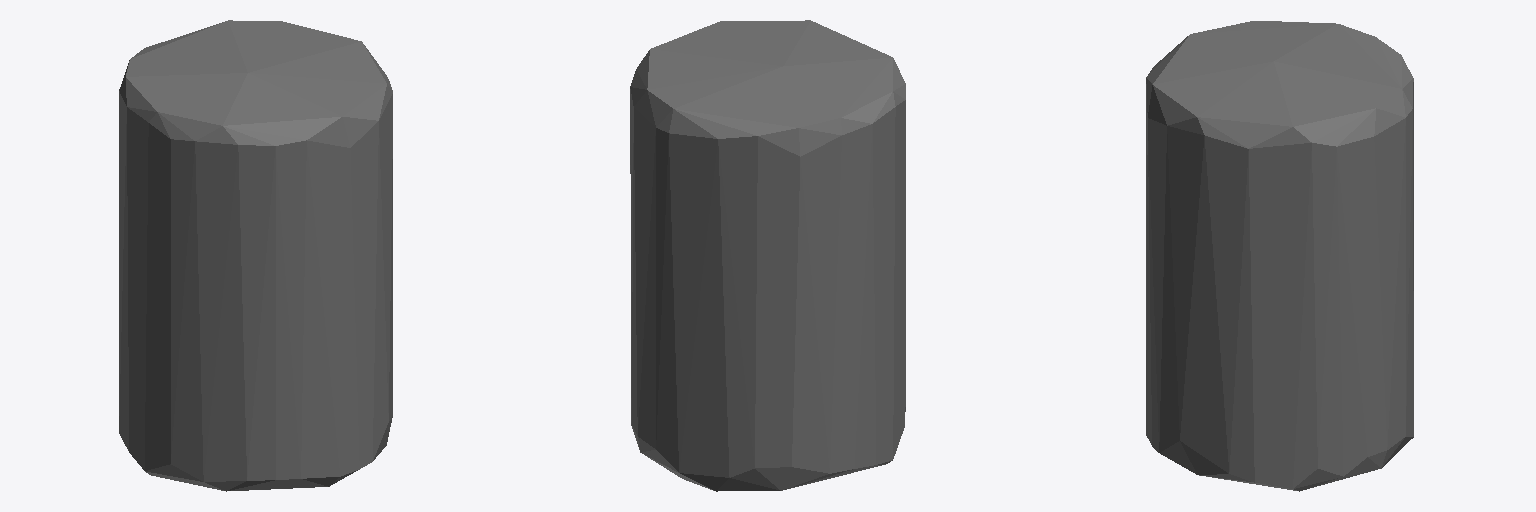
URDF robot description (trash_can_025):
<?xml version="1.0" ?>
<robot name="trash_can_025">
  <material name="color">
    <color rgba=".5 .5 .5 1"/>
  </material>

  <link name="base_link">
    <contact>
      <lateral_friction value="1.0"/>
      <rolling_friction value="0.001"/>
      <spinning_friction value="0.001"/>
      <inertia_scaling value="1.0"/>
    </contact>
    <inertial>
      <origin rpy="0 0 0" xyz="-5.07014e-05 1.68764e-05 0.00526107"/>
       <mass value="0.1"/>
       <inertia ixx="1" ixy="0" ixz="0" iyy="1" iyz="0" izz="1"/>
    </inertial>

    <visual>
      <origin rpy="0 0 0" xyz="0 0 0"/>
      <geometry>
        <mesh filename="trash_can_025_vhacd_0_of_1.obj" scale="1 1 1"/>
      </geometry>
      <material name="color"/>
    </visual>

    <collision>
      <origin rpy="0 0 0" xyz="0 0 0"/>
      <geometry>
        <mesh filename="trash_can_025_vhacd_0_of_1.obj" scale="1 1 1"/>
      </geometry>
    </collision>

  </link>
</robot>

--- Render facts (derived) ---
3 views of the same robot in one strip: view 1: azimuth 30°, elevation 25°; view 2: azimuth 150°, elevation 25°; view 3: azimuth 270°, elevation 25° (orthographic).
Model trash_can_025 with 1 links and 0 joints (none), rooted at base_link, posed every joint at zero.
Visible links, largest first — view 1: base_link; view 2: base_link; view 3: base_link.
Boxes of the visible links, left/top/right/bottom form: base_link: left=119, top=20, right=392, bottom=491; base_link: left=630, top=20, right=905, bottom=491; base_link: left=1146, top=21, right=1413, bottom=491.
Bounding box of the posed robot: 0.2546 × 0.2538 × 0.3903 m (x, y, z).
Meshes: 1 distinct files referenced, 1 mesh visuals loaded (1 OBJ).